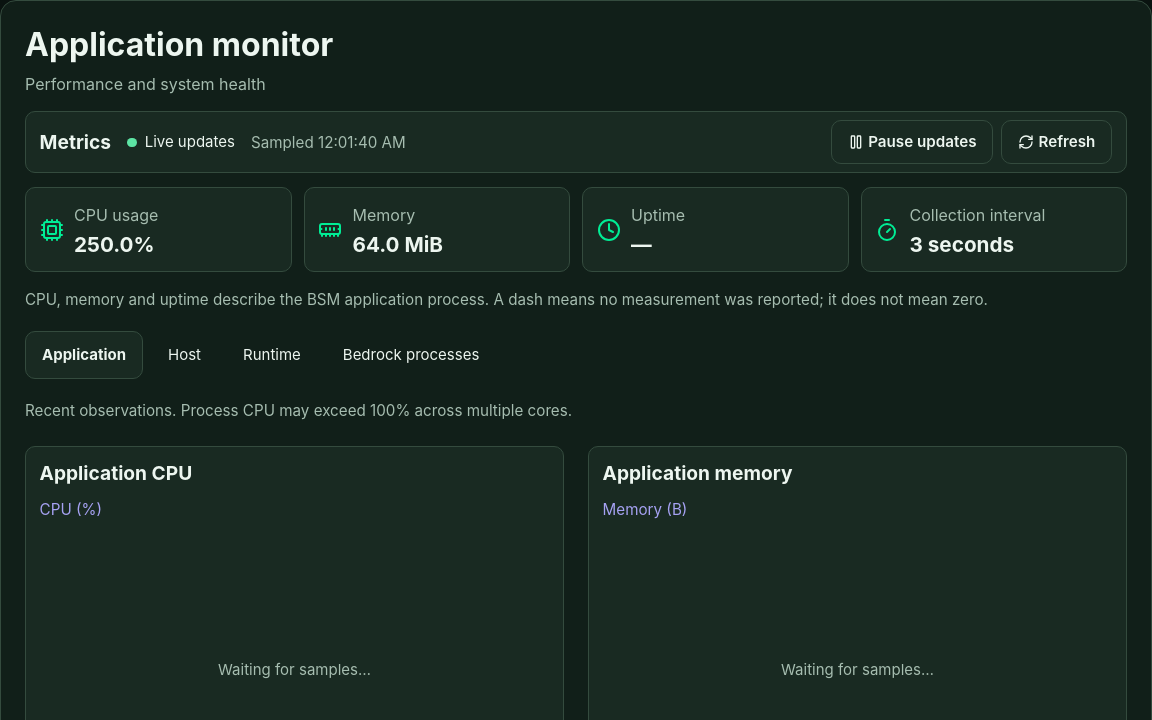
renders application metrics and separates unavailable process readings from zero
Check: the heading "Application monitor" is shown, box top-left (25, 25), bottom-right (333, 64)
Check: the text "250.0%" is shown, box top-left (74, 232), bottom-right (158, 258)
What coordinates should you click on to do the following:
click the button "Bedrock processes"
I would click on:
 (411, 355)
Its box is top-left (326, 331), bottom-right (496, 379).
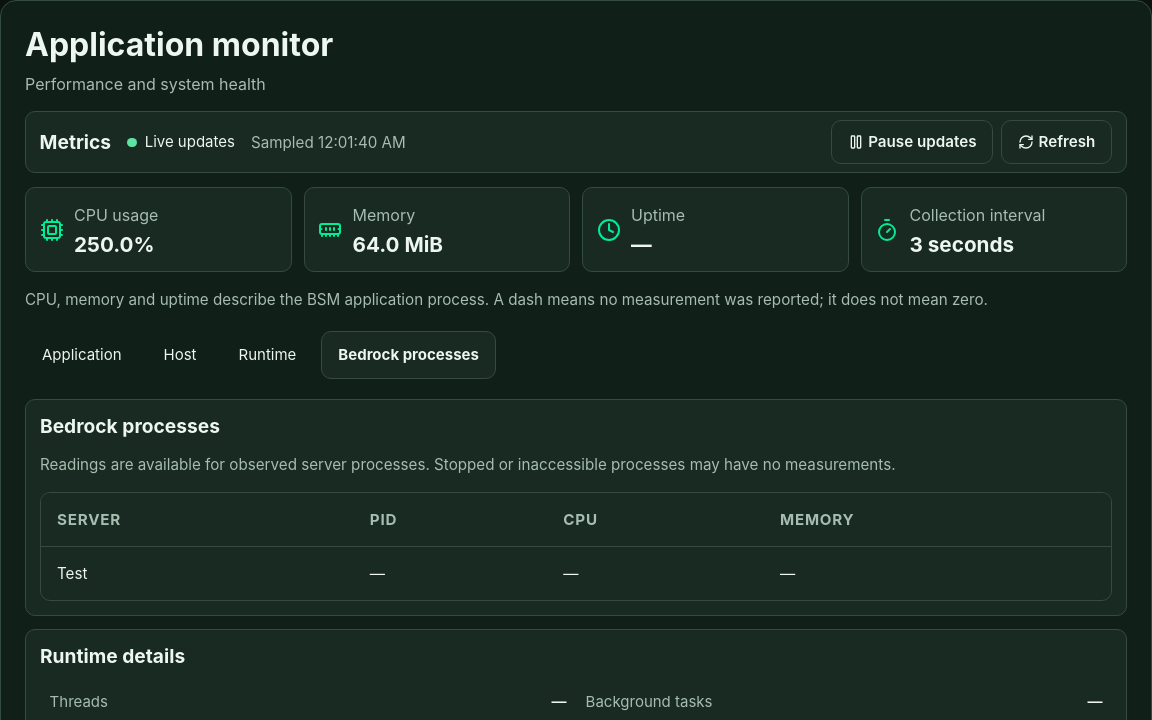
Check: the row "Test — — —" is shown, box top-left (41, 546), bottom-right (1111, 600)
What coordinates should you click on to do the following:
click the button "Host"
I would click on:
 (180, 355)
Its box is top-left (146, 331), bottom-right (214, 379).
(page scrolled)
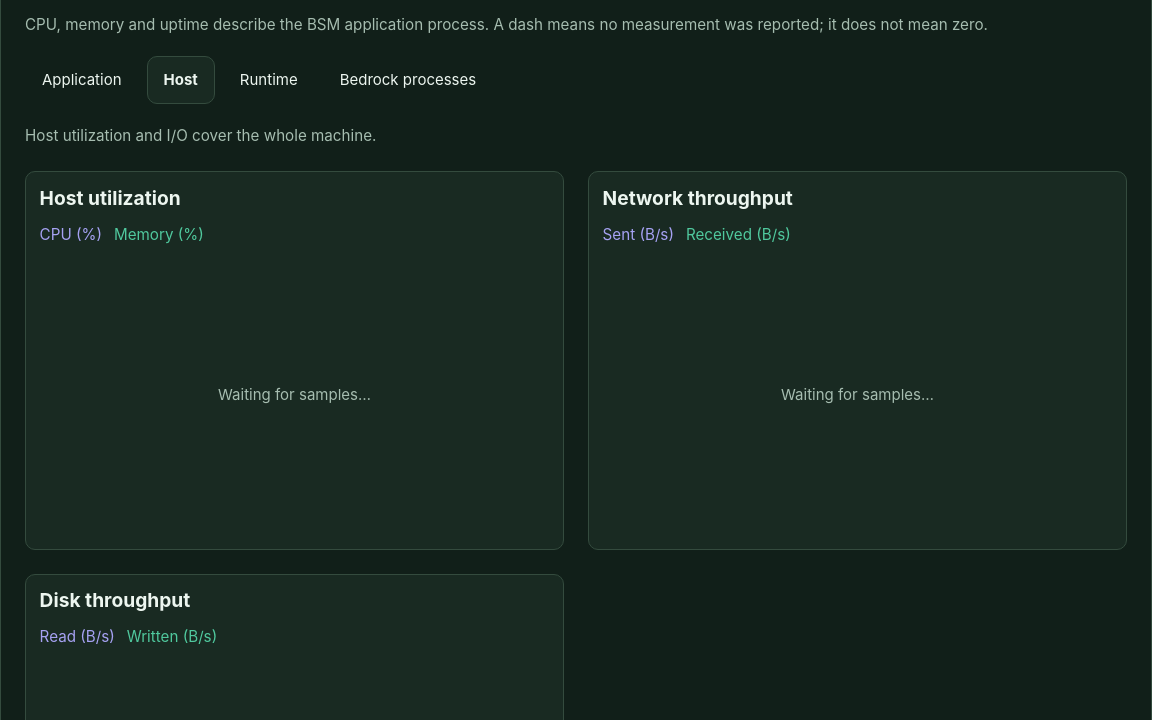
Check: the element "Network throughput" is shown, box top-left (588, 171), bottom-right (1127, 550)
